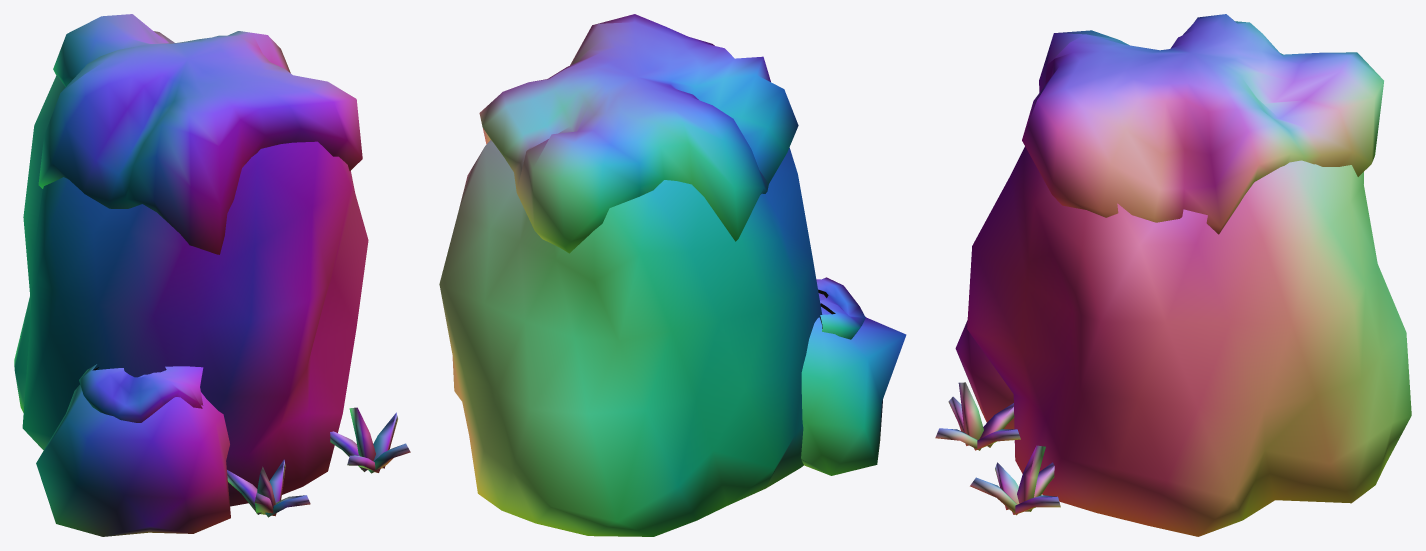
Rendered from SM_Outcrop_March_V0.fbx.
3 views of the same model, side by side, from view 1: azimuth 30°, elevation 25°; view 2: azimuth 150°, elevation 25°; view 3: azimuth 270°, elevation 25° (orthographic). The views are drawn at different scales.
Parts seen in each view (by area): view 1: SM_Outcrop_March_V0; view 2: SM_Outcrop_March_V0; view 3: SM_Outcrop_March_V0.
Boxes of the visible parts, <box> form: SM_Outcrop_March_V0: <box>14,14,410,536</box>; SM_Outcrop_March_V0: <box>439,14,906,536</box>; SM_Outcrop_March_V0: <box>935,14,1411,536</box>.
Bounding box in the file's own units: 1.37 × 1.44 × 1.51.
